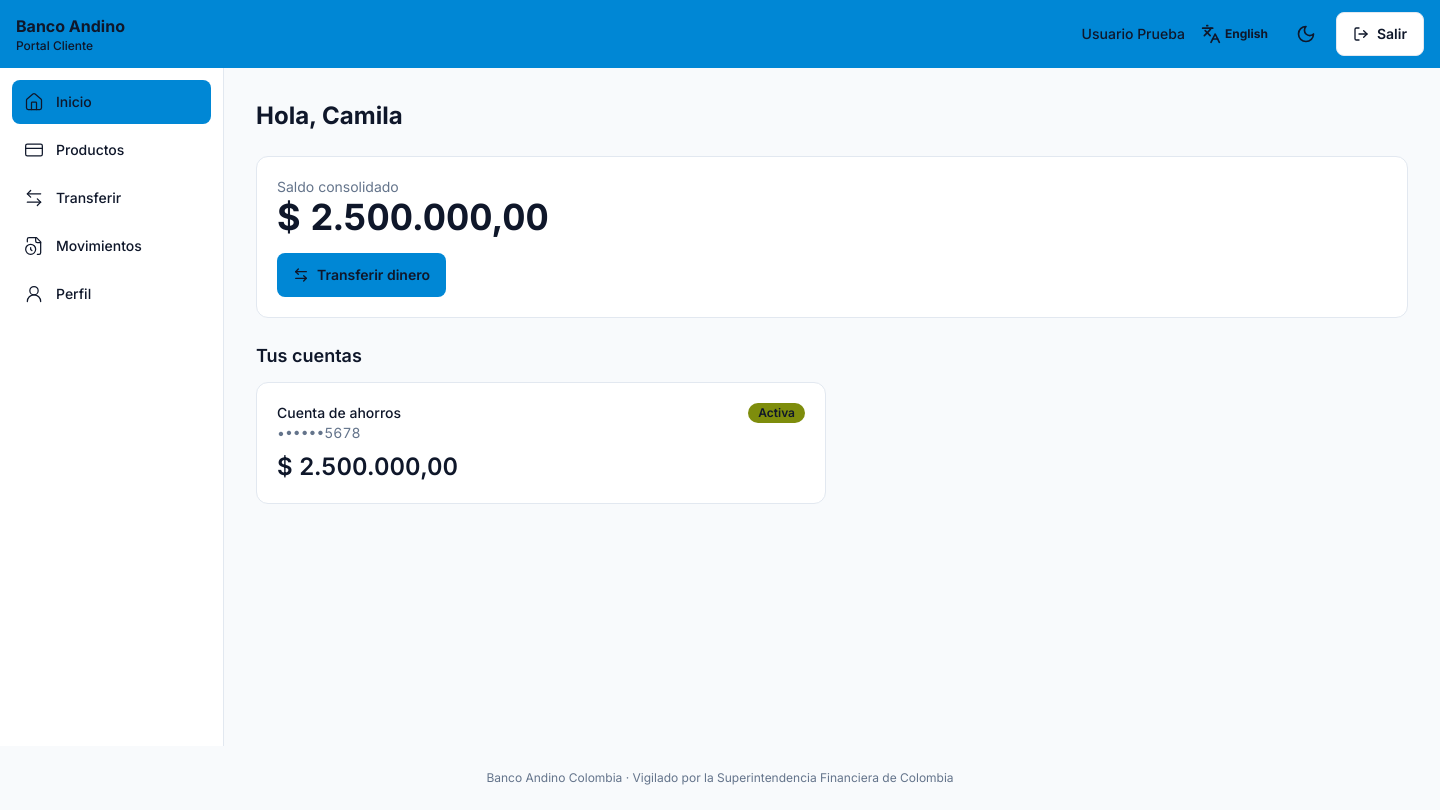
Scenario: i18n y metadatos por ruta › cambia de idioma, actualiza <html lang> y vuelve a español
Later steps or results of the test are not shown.
Expected: the heading "Hola, Camila" is shown, [256,101,403,130]
Click the button "English": x=1234, y=34 [1193,12,1276,56]
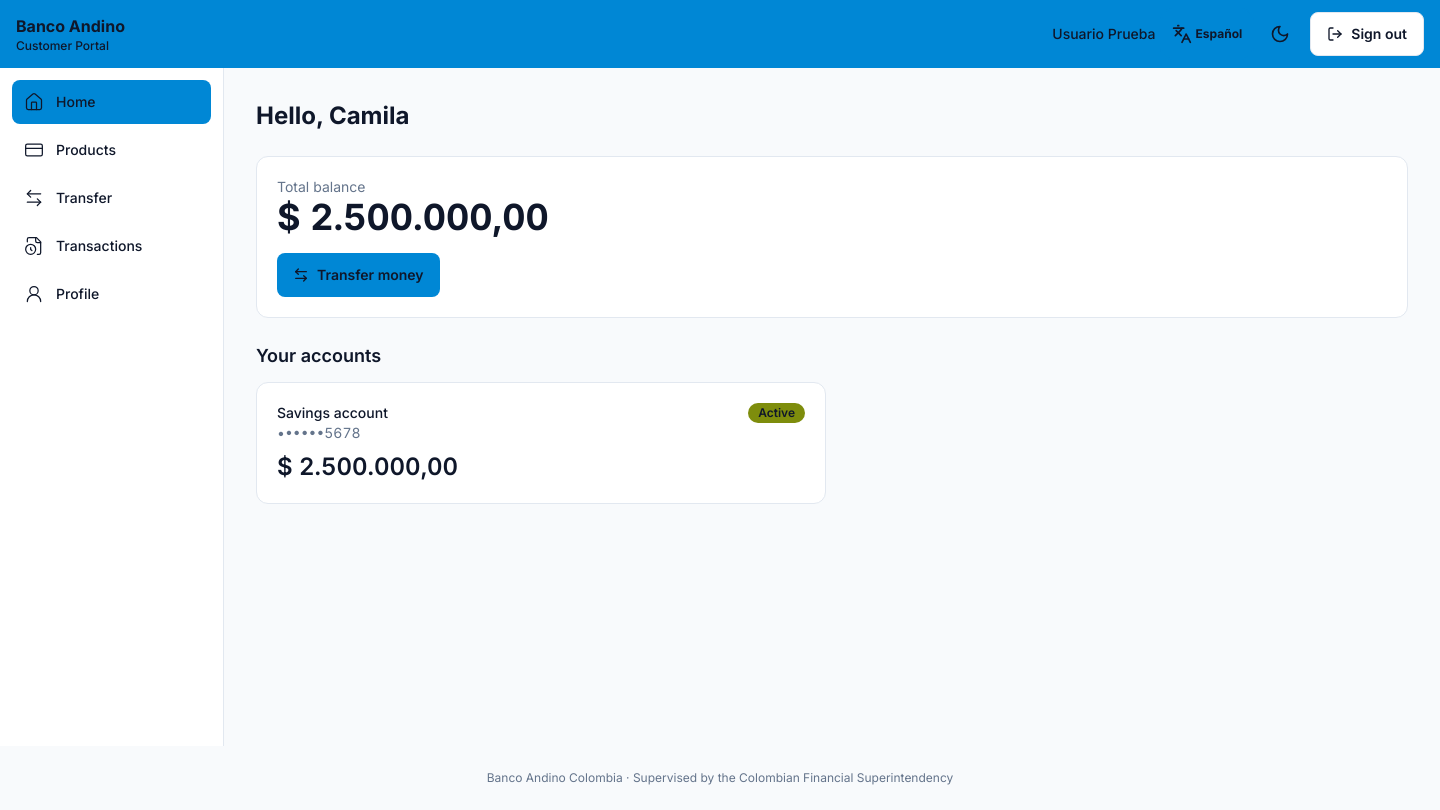
Result: the heading "Hello, Camila" is shown at [256,101,410,130]
